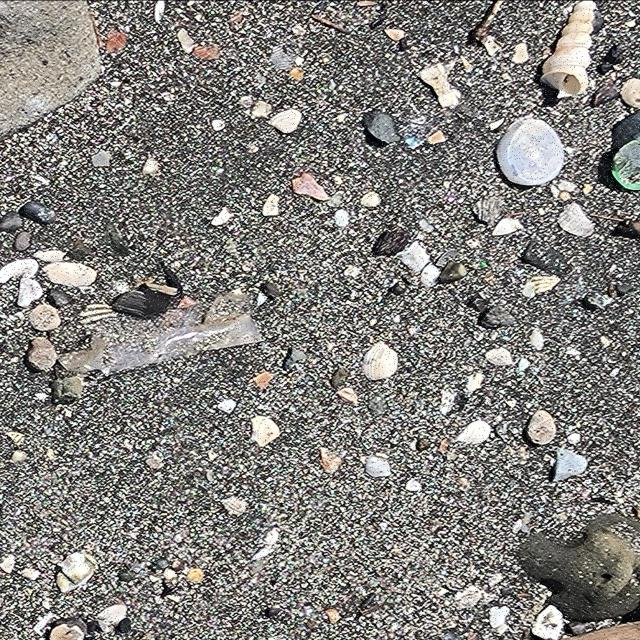plastic_waste: (496, 119, 566, 187)
